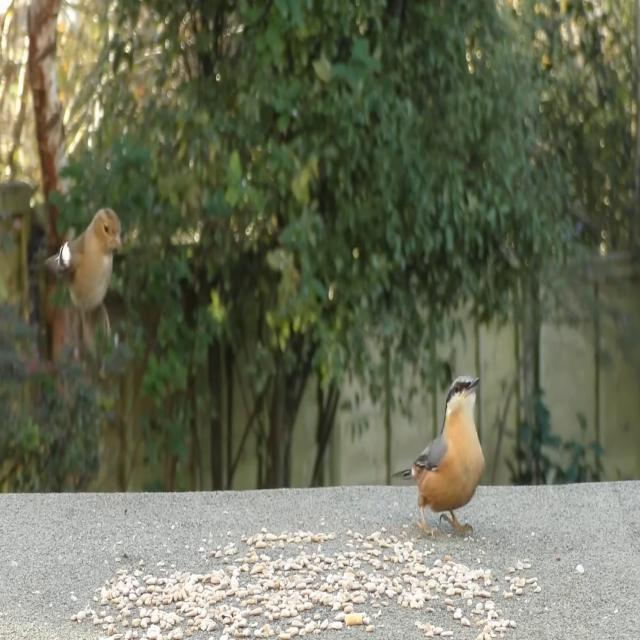beak: (464, 372, 482, 401), (114, 230, 124, 254)
bird: (393, 371, 487, 545), (44, 196, 120, 346)
